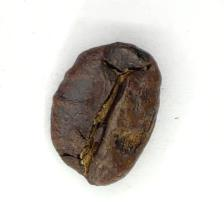NG: (68, 45, 151, 173)
